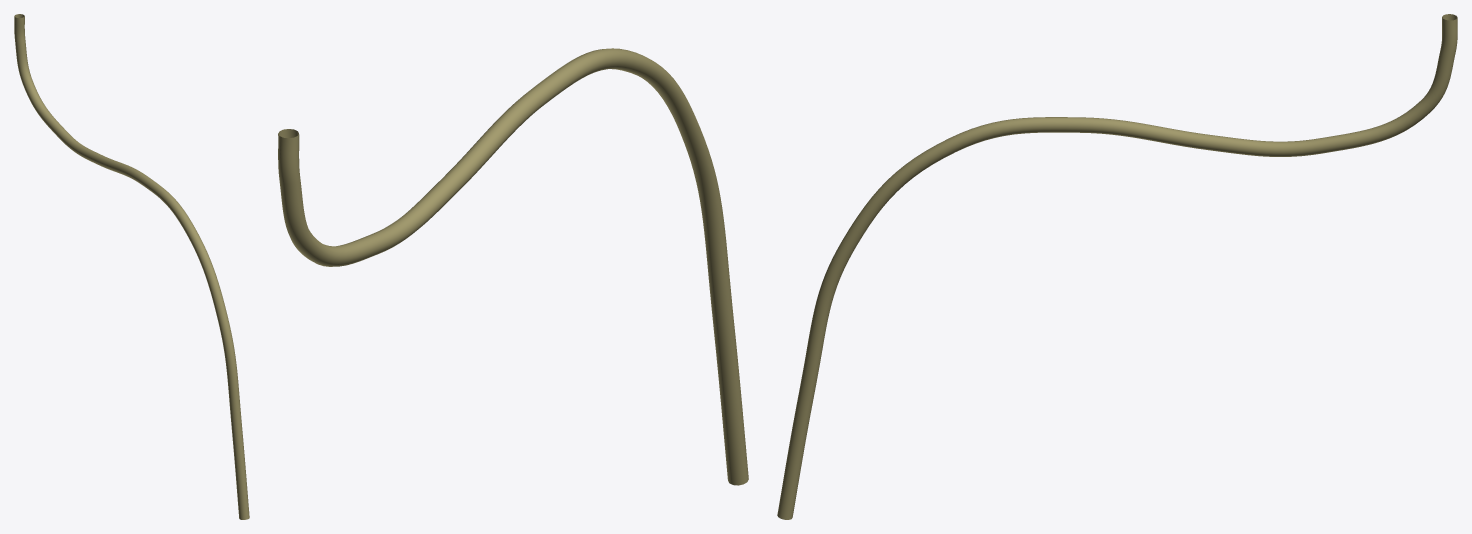
The model's file is Urethra.glb.
3 renders of one model, left to right at view 1: azimuth 30°, elevation 25°; view 2: azimuth 150°, elevation 25°; view 3: azimuth 270°, elevation 25°, orthographic. The views are drawn at different scales.
Visible parts, largest first — view 1: Urethra_BezierCurve.283; view 2: Urethra_BezierCurve.283; view 3: Urethra_BezierCurve.283.
Boxes of the visible parts, x1,y1,x2,y2 form: Urethra_BezierCurve.283: (14,14,249,519); Urethra_BezierCurve.283: (278,48,748,485); Urethra_BezierCurve.283: (777,14,1457,519).
Bounding box in the file's own units: 0.0024 × 0.0854 × 0.1051.
